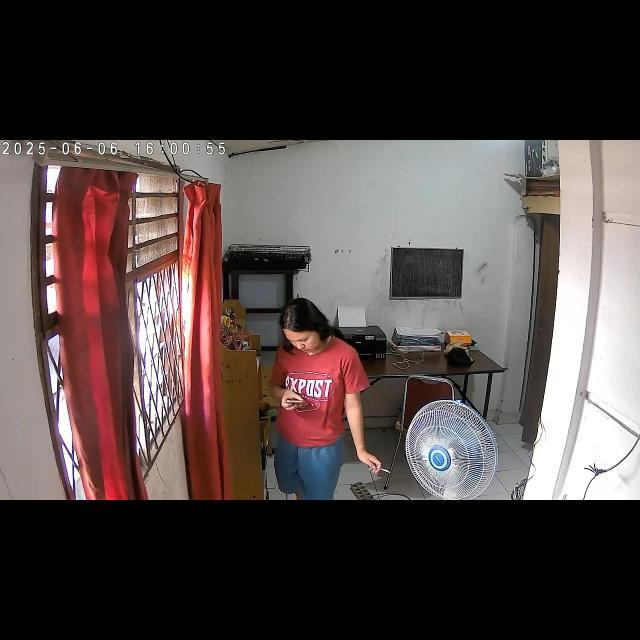rokok: (373, 462, 392, 476)
